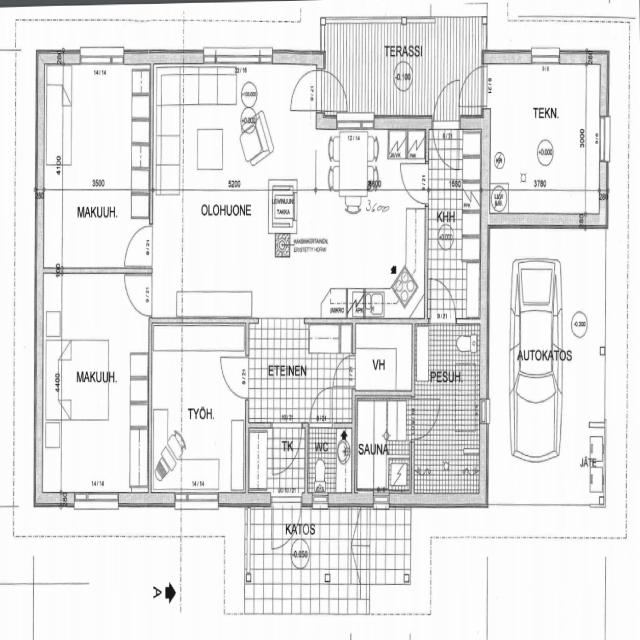door: (272, 492, 301, 556), (272, 422, 302, 474), (433, 115, 459, 171), (433, 74, 459, 130), (456, 66, 490, 106), (292, 71, 325, 110), (316, 71, 349, 110), (430, 276, 456, 324), (399, 163, 429, 204), (220, 357, 249, 398), (125, 226, 154, 266), (409, 399, 438, 438), (125, 274, 153, 314), (310, 387, 332, 428), (332, 356, 355, 387)
